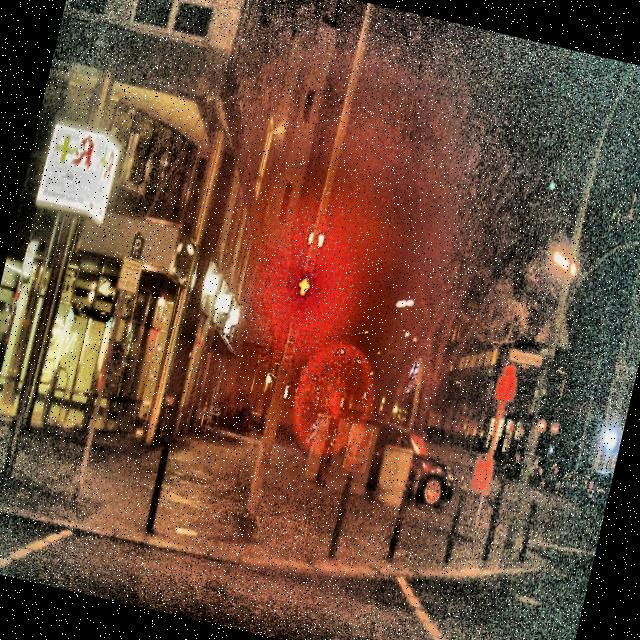red_light: (295, 275, 312, 298)
